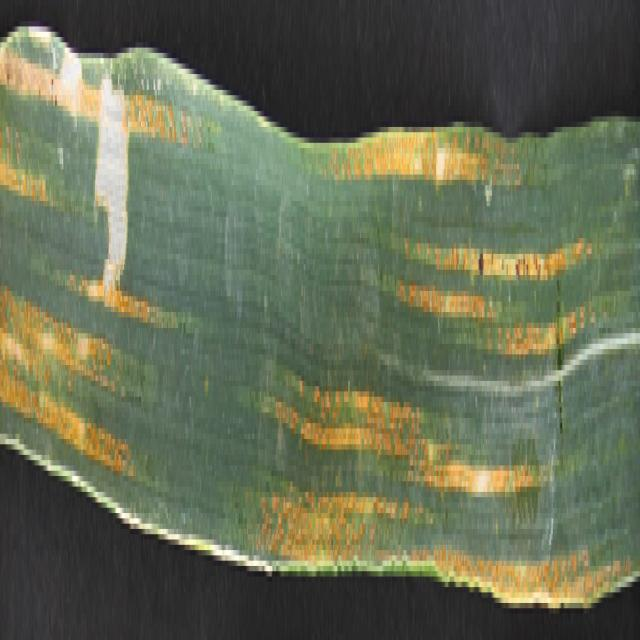leaf rust: (257, 117, 635, 592), (1, 74, 162, 540)
